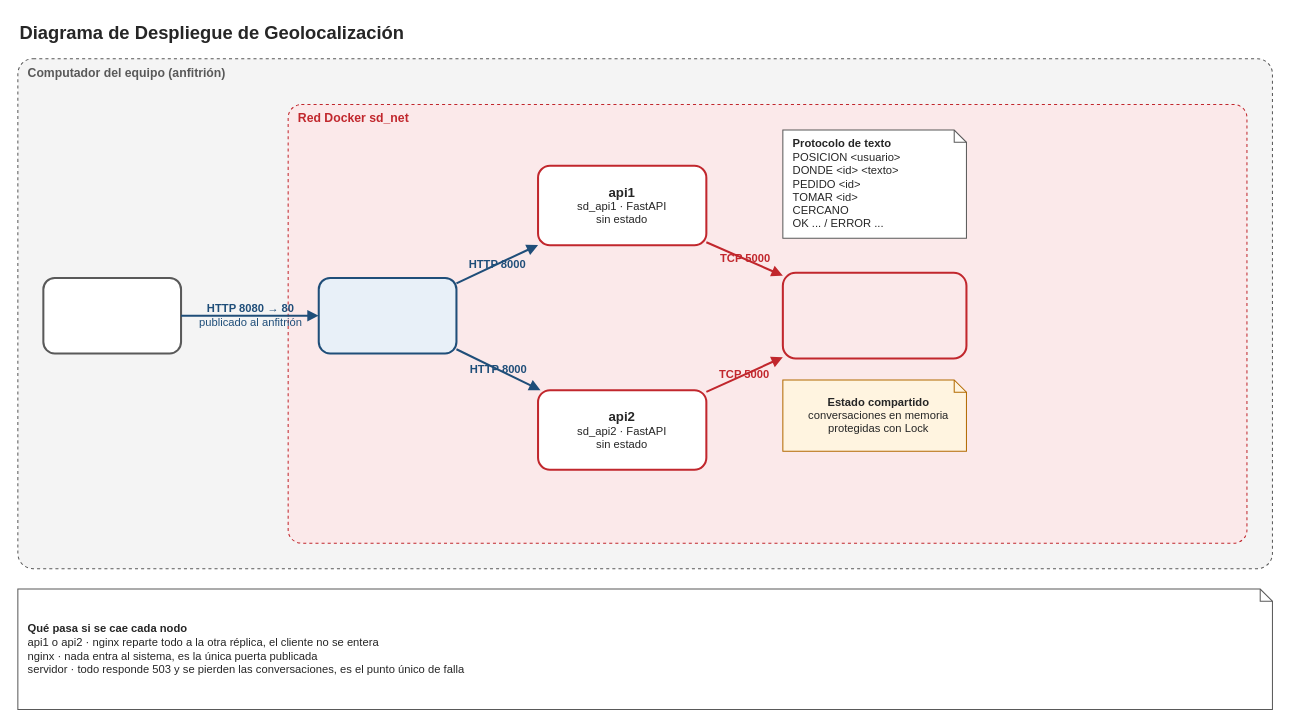
This 1290x727 diagram has some shape labels left out. The shapes that lost their labels are listed below. From the top down, each one's centre as x and y in pixels, then its label:
pixel 112 315: Cliente
pixel 387 315: nginx sd_nginx entrada única
pixel 874 315: servidor sd_servidor · servidor.py hilo por cliente
